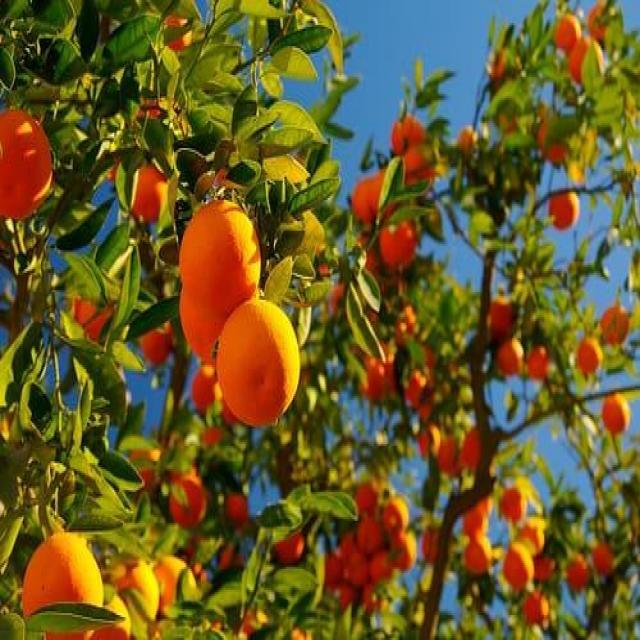Jeruk Sudah Matang: (214, 300, 304, 430), (174, 198, 268, 315), (20, 528, 106, 632), (0, 106, 55, 222), (124, 158, 172, 228), (167, 469, 213, 530), (378, 217, 418, 273), (502, 540, 538, 595), (137, 316, 174, 369), (596, 300, 634, 344), (547, 187, 582, 233), (600, 389, 631, 437), (460, 534, 492, 578), (389, 530, 418, 577), (566, 549, 592, 600), (574, 334, 603, 379), (356, 518, 385, 559), (277, 525, 305, 567), (497, 336, 525, 378), (381, 499, 410, 538), (589, 543, 617, 580), (222, 492, 249, 530), (521, 595, 551, 629), (354, 478, 380, 514)
